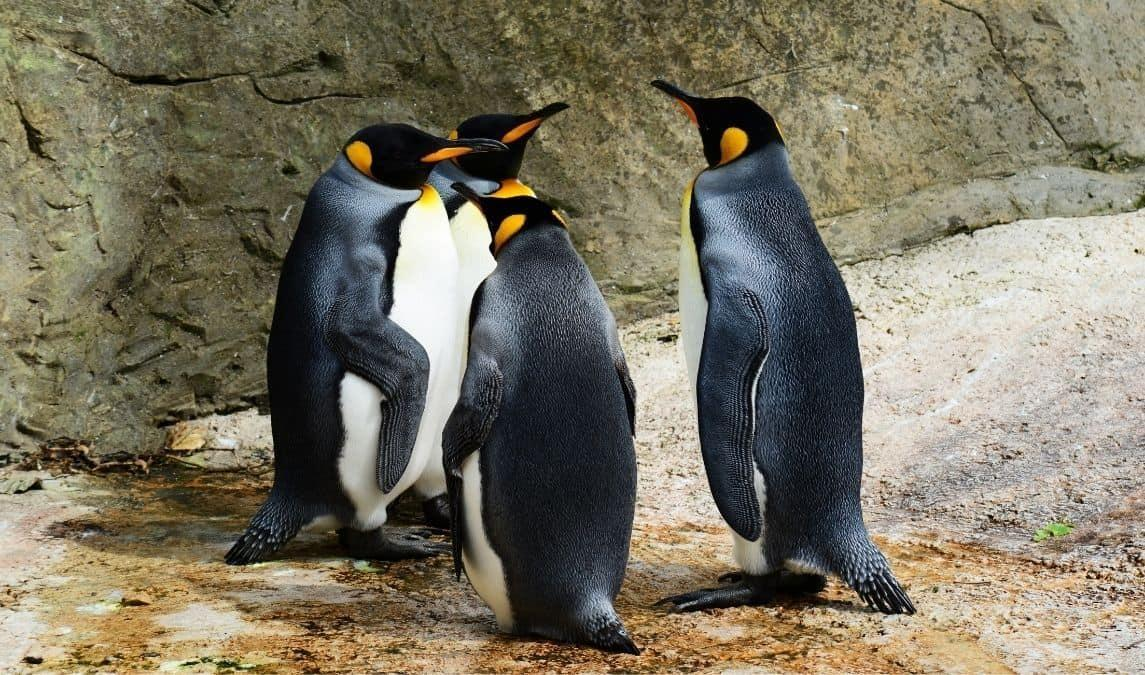Penguin: (653, 81, 914, 612), (226, 123, 504, 563), (443, 183, 637, 652), (429, 103, 567, 327), (413, 443, 452, 532)
